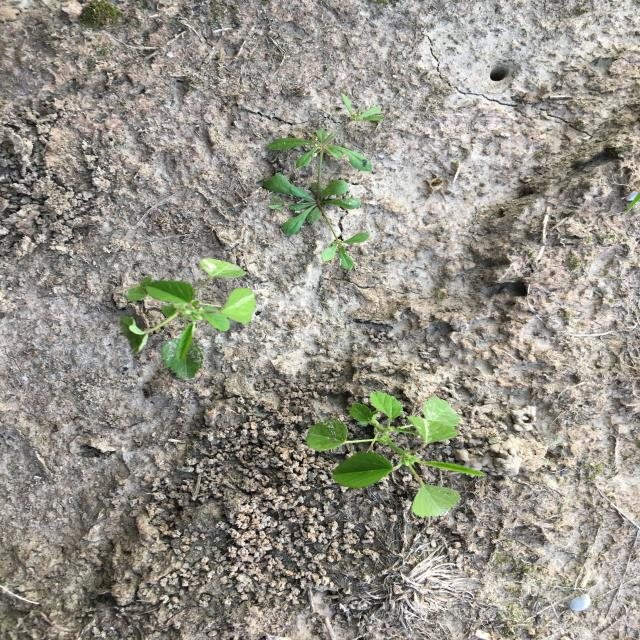Carpetweed: (260, 92, 388, 272)
PricklySida: (304, 389, 488, 518), (117, 256, 257, 383)
